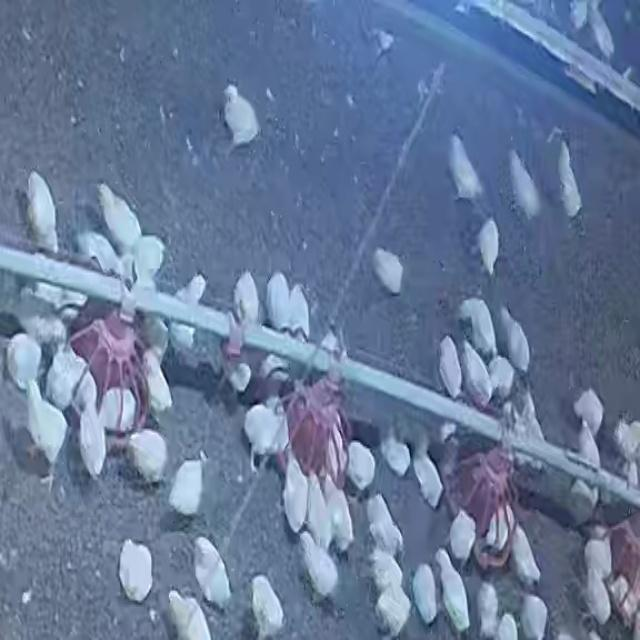chicken: (241, 402, 291, 472), (96, 182, 142, 256), (219, 79, 263, 155), (44, 341, 90, 413), (444, 130, 485, 206), (581, 534, 614, 624), (192, 536, 233, 608), (296, 534, 340, 600), (118, 535, 158, 607), (434, 548, 468, 631), (25, 170, 59, 252), (167, 452, 208, 520), (248, 571, 288, 639), (123, 428, 169, 486), (457, 294, 500, 355), (494, 303, 530, 374), (74, 230, 124, 280), (364, 492, 402, 556), (168, 588, 214, 640), (508, 149, 541, 221), (458, 338, 492, 406), (555, 141, 584, 220), (140, 348, 173, 416), (5, 332, 43, 391), (376, 584, 416, 640), (508, 522, 542, 587), (411, 440, 443, 506), (131, 236, 167, 293), (472, 216, 504, 277), (99, 388, 140, 434), (372, 245, 406, 299), (448, 507, 478, 565), (378, 427, 411, 479), (438, 334, 464, 400), (573, 388, 606, 440), (585, 0, 614, 58), (413, 562, 439, 625), (232, 269, 260, 326), (346, 440, 376, 492), (487, 355, 517, 401)
